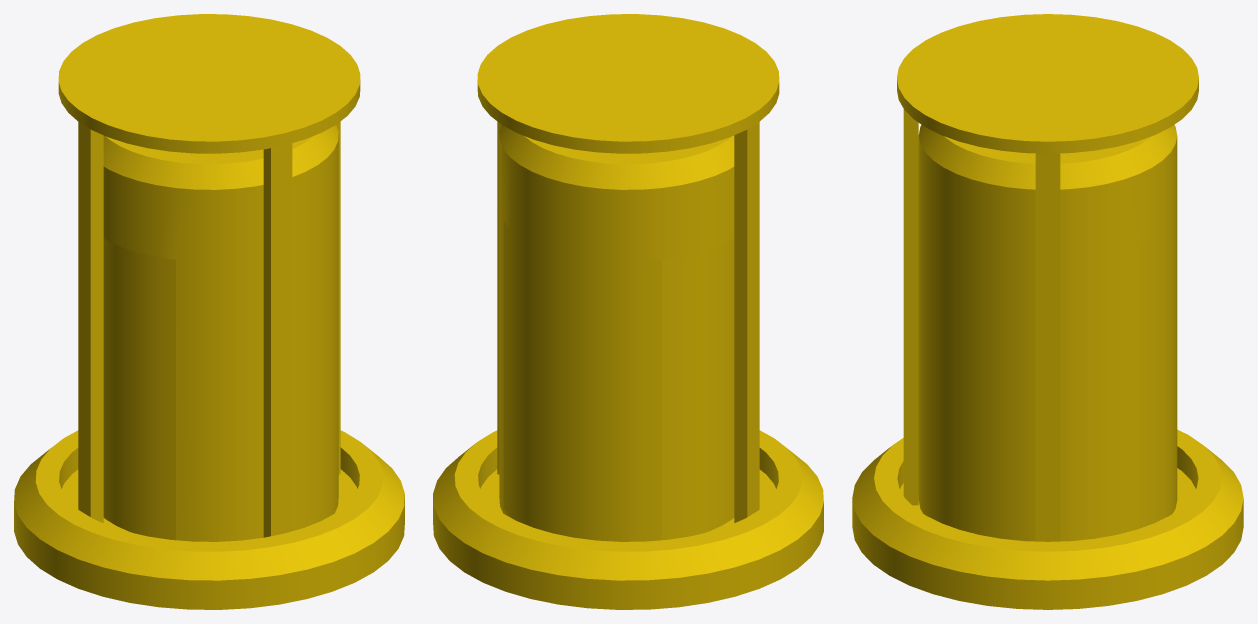
Rendered from MESH_ExitPod.fbx.
3 renders of one model, left to right at view 1: azimuth 30°, elevation 25°; view 2: azimuth 150°, elevation 25°; view 3: azimuth 270°, elevation 25°, orthographic.
Visible parts, largest first — view 1: Capsule, Top, Ring, Trust; view 2: Capsule, Door, Top, Ring, Trust; view 3: Capsule, Top, Ring, Trust, Door.
Part boxes in pixels (x1=…): Capsule: x1=103, y1=125, x2=338, y2=541; Top: x1=58, y1=14, x2=360, y2=153; Ring: x1=14, y1=430, x2=404, y2=609; Trust: x1=78, y1=121, x2=340, y2=537; Capsule: x1=499, y1=125, x2=734, y2=540; Door: x1=503, y1=221, x2=661, y2=541; Top: x1=477, y1=14, x2=779, y2=153; Ring: x1=433, y1=430, x2=823, y2=609; Trust: x1=497, y1=121, x2=759, y2=523; Capsule: x1=918, y1=125, x2=1177, y2=541; Top: x1=897, y1=14, x2=1198, y2=153; Ring: x1=852, y1=429, x2=1243, y2=609; Trust: x1=903, y1=109, x2=1060, y2=541; Door: x1=1139, y1=208, x2=1177, y2=528.
Bounding box in the file's own units: 220 × 290 × 220.
